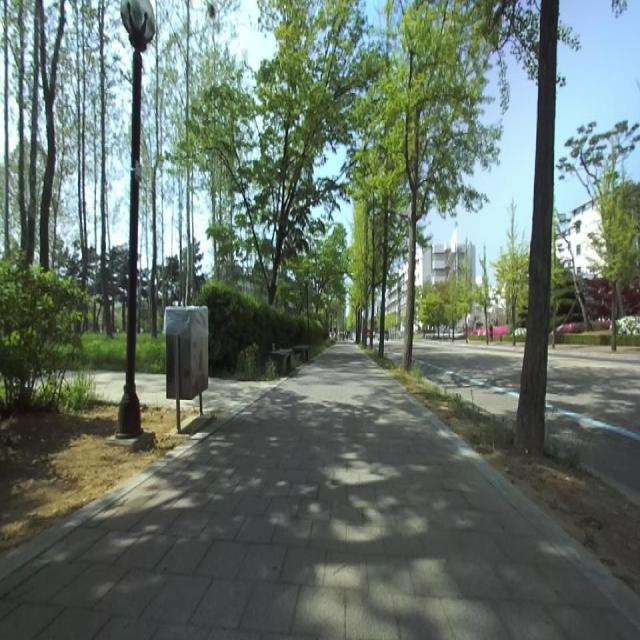sidewalk: (0, 341, 640, 639)
